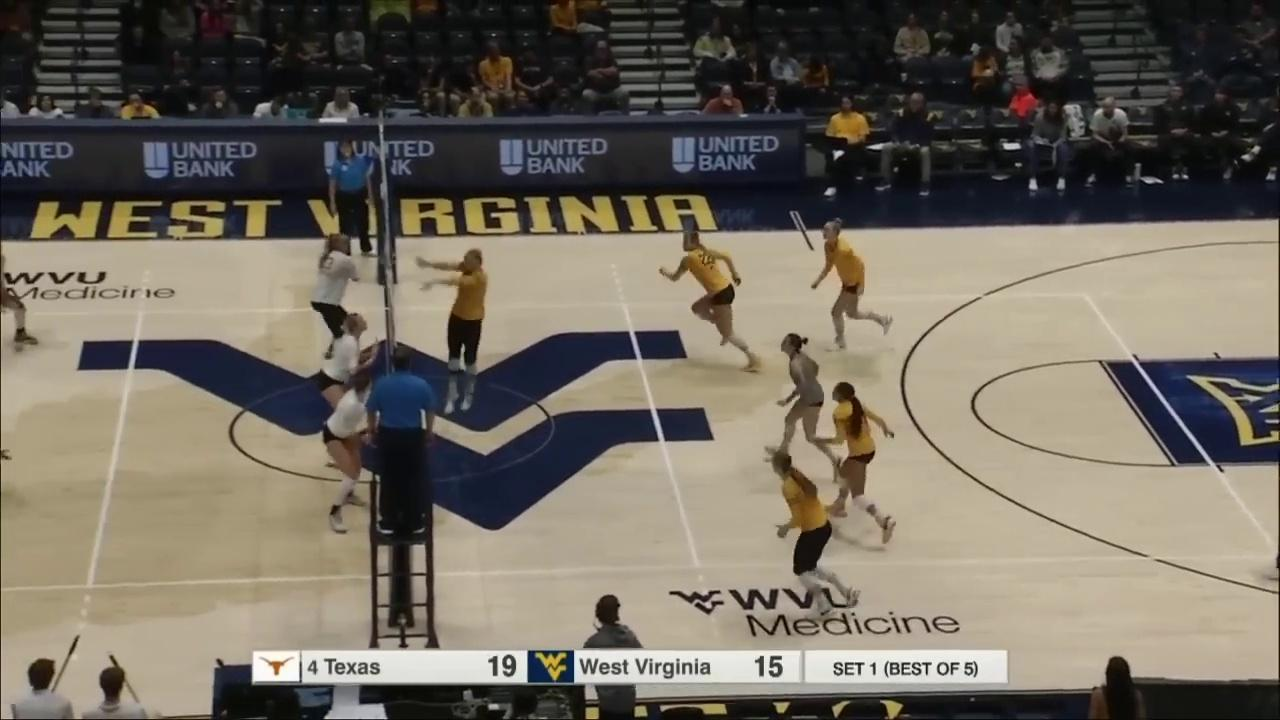player: (812, 381, 898, 545), (775, 452, 860, 615), (663, 232, 759, 369), (767, 332, 847, 480), (815, 218, 892, 353), (421, 250, 485, 410), (320, 313, 380, 464), (323, 374, 377, 533), (312, 235, 363, 375)
refree: (373, 349, 426, 536), (329, 140, 370, 257)
